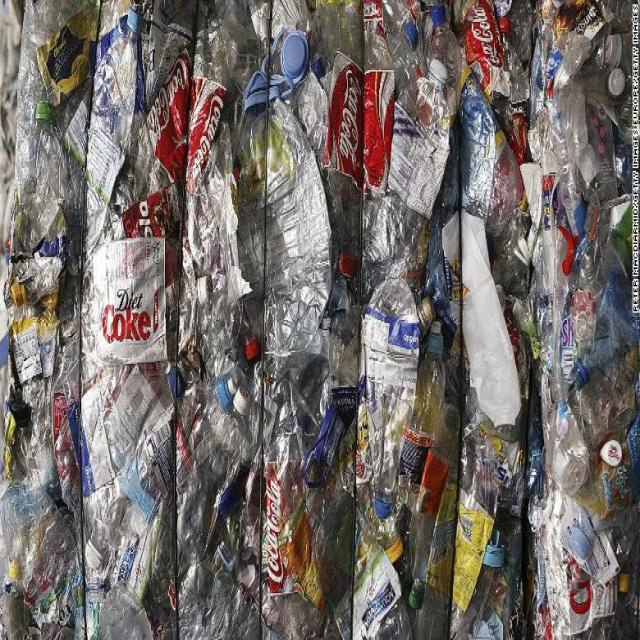heap: (2, 2, 640, 640)
plastic_bag: (442, 217, 525, 429)
plastic_bottle: (239, 86, 337, 350), (379, 60, 453, 307), (366, 279, 425, 520), (86, 405, 167, 577), (182, 388, 254, 562), (455, 433, 502, 640)
